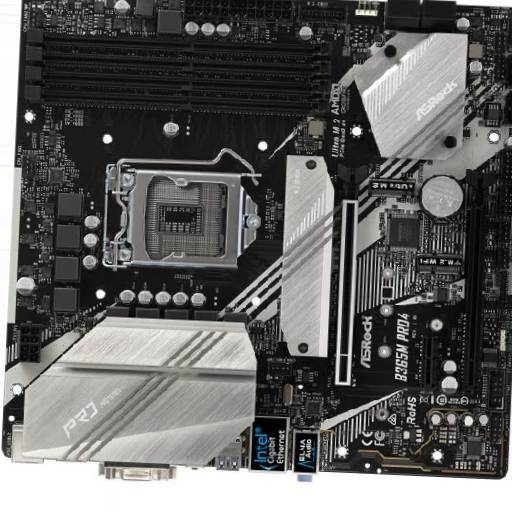CPU: (99, 149, 259, 266)
GPU: (462, 171, 487, 398), (332, 198, 359, 386)
MOTHERBOARD: (1, 1, 512, 479)
RAM: (20, 33, 336, 115)
SSD: (368, 179, 415, 198)
